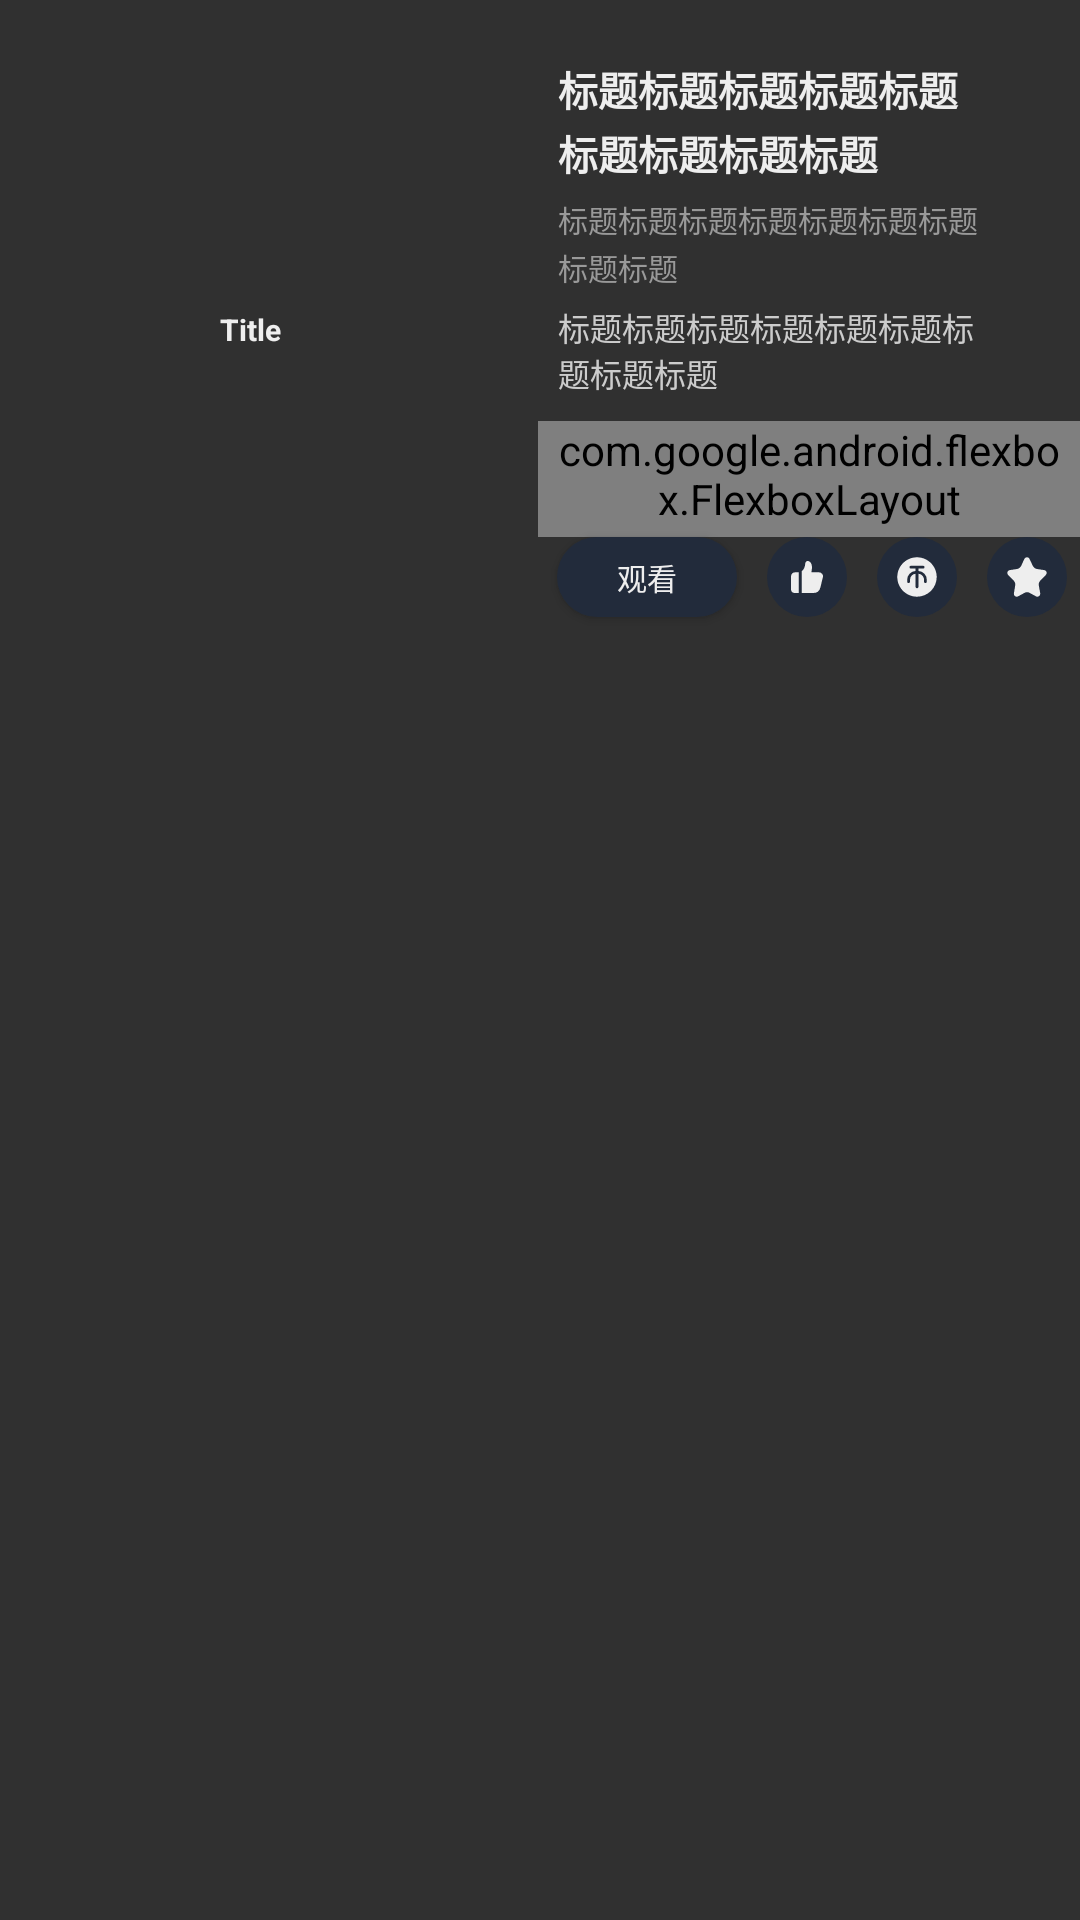

Screen size 1080*1920. Icon name, then its center in pixels as point (x, y):
coin: point (917, 577)
favorite: point (1027, 577)
like: point (807, 577)
